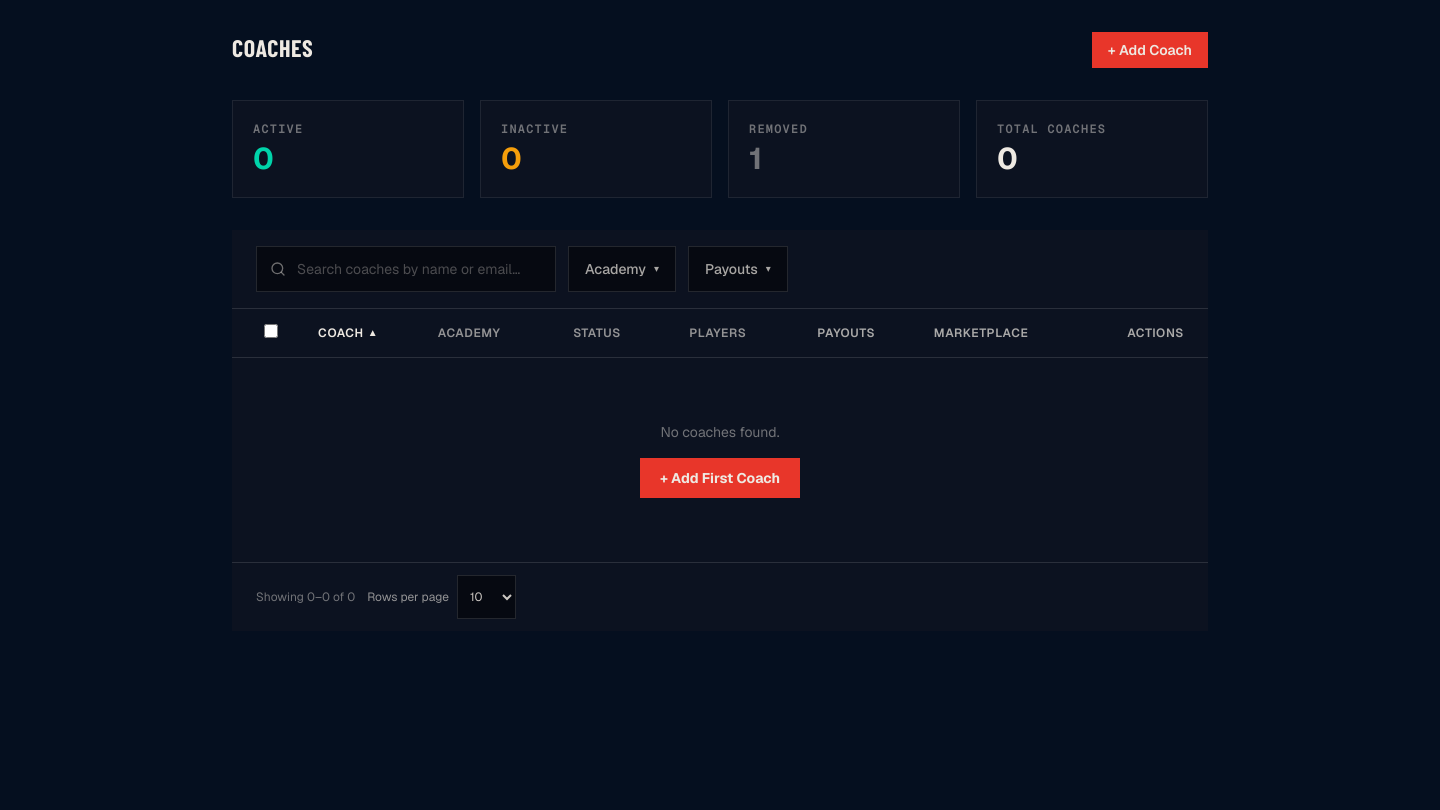
Test: CoachesClient › reinstating a removed coach requires confirmation, then restores their login
The image size is (1440, 810).
Click the button "Removed 1": (844, 149) x1=728 y1=100 x2=960 y2=198
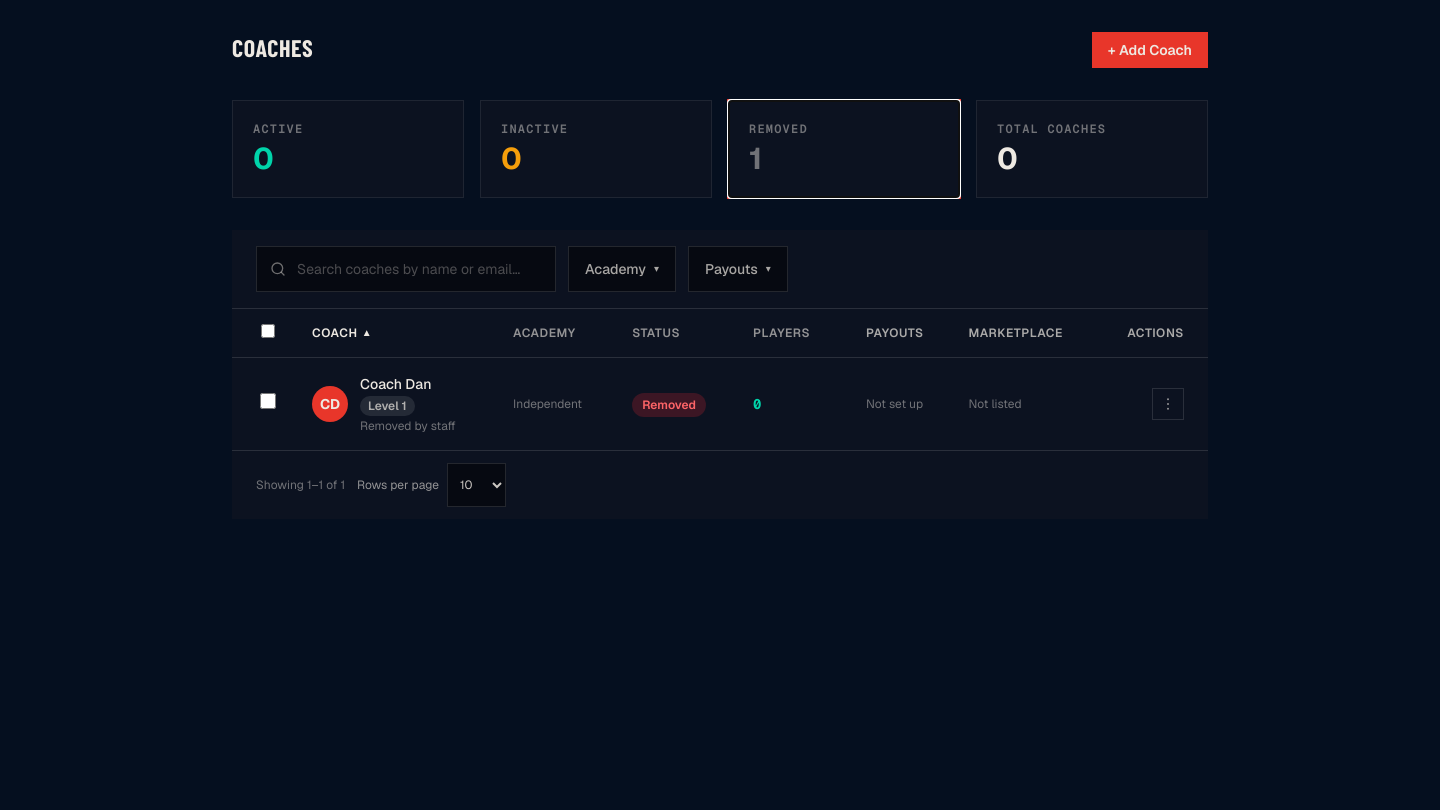
expect the text "Coach Dan" is shown: met, box x1=360 y1=374 x2=431 y2=394
Click the button named "More actions": (1168, 404) x1=1152 y1=388 x2=1184 y2=420
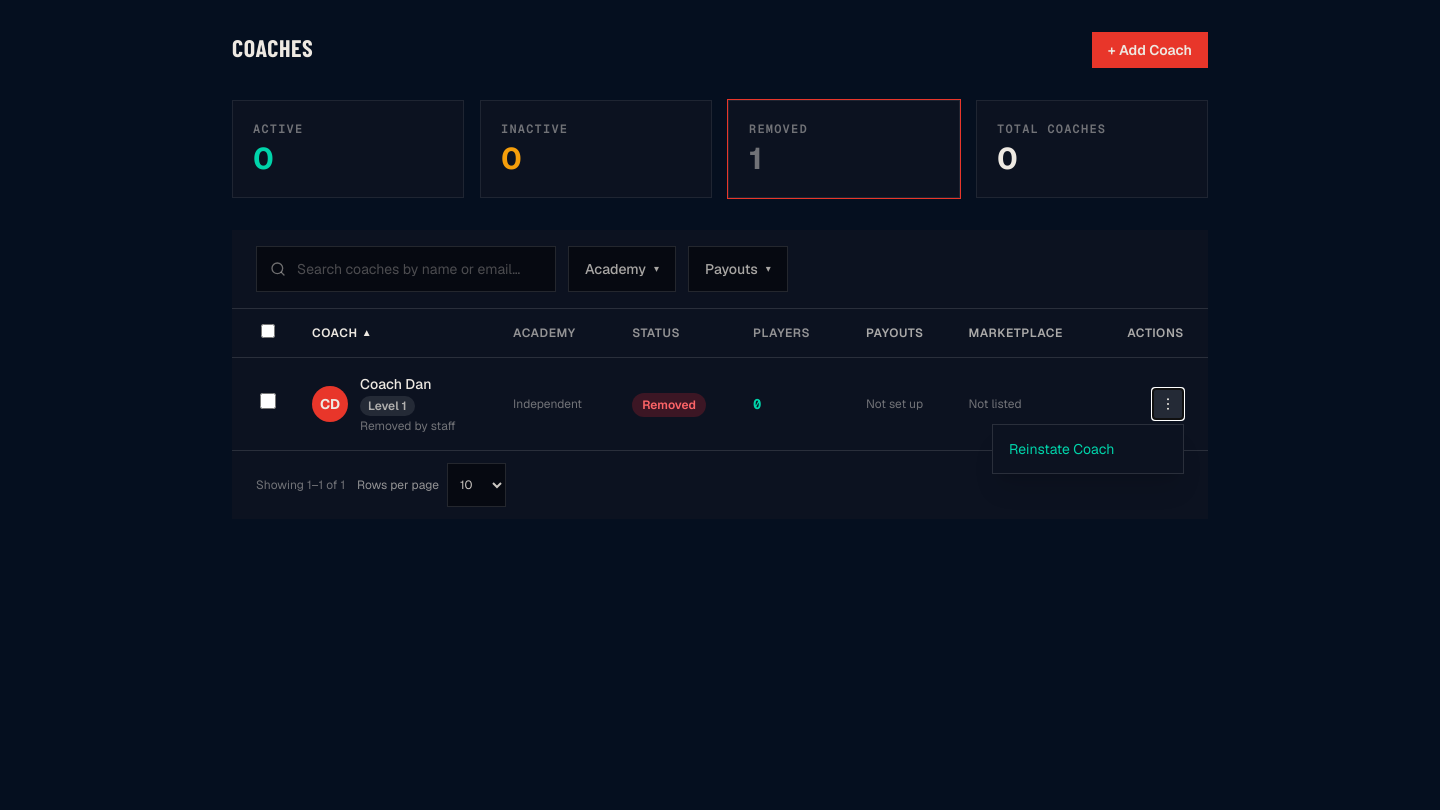
Click the button "Reinstate Coach": (1088, 449) x1=993 y1=429 x2=1183 y2=469
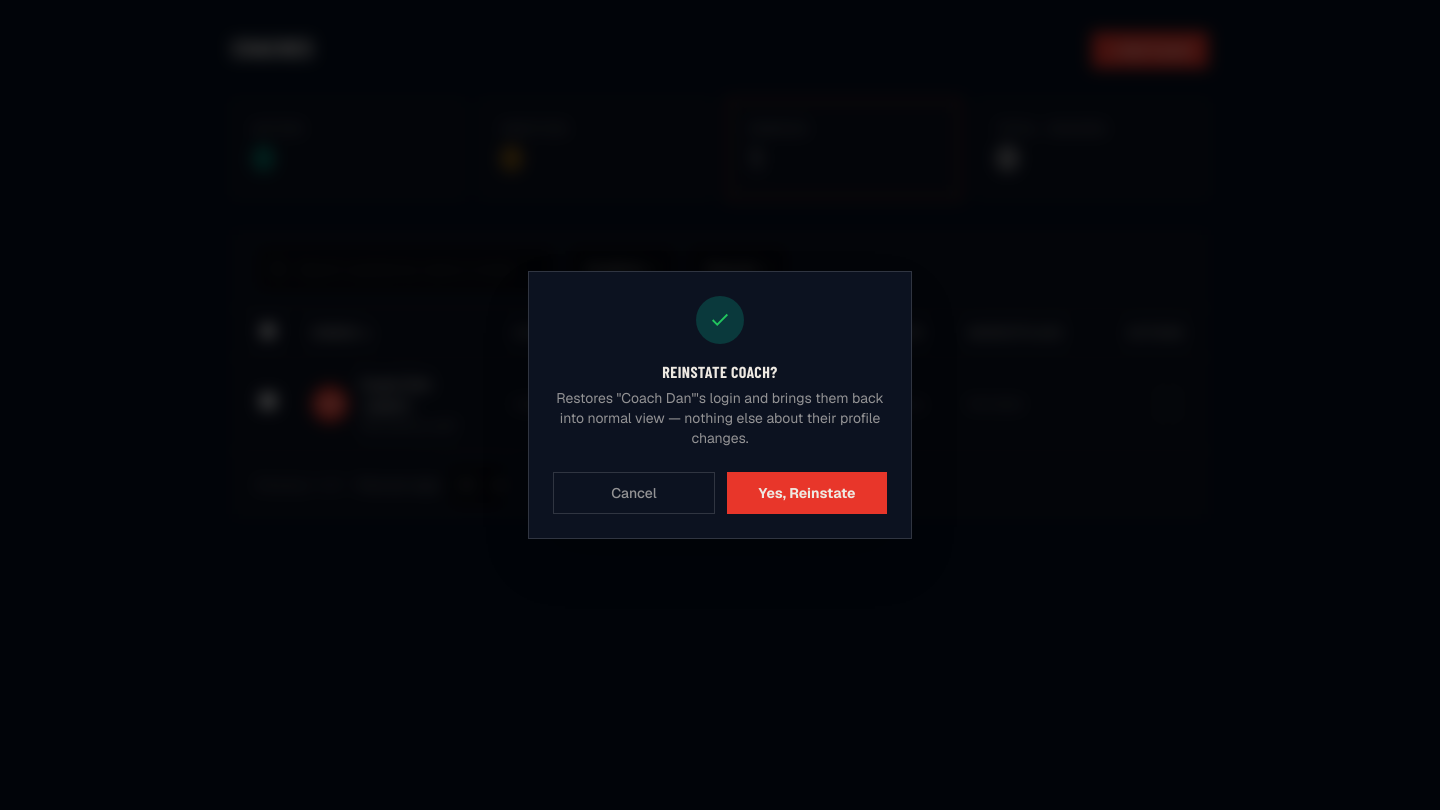
expect the heading "Reinstate Coach?" is shown: met, box x1=662 y1=362 x2=778 y2=381
Click the button "Yes, Reinstate": (807, 493) x1=727 y1=472 x2=887 y2=514
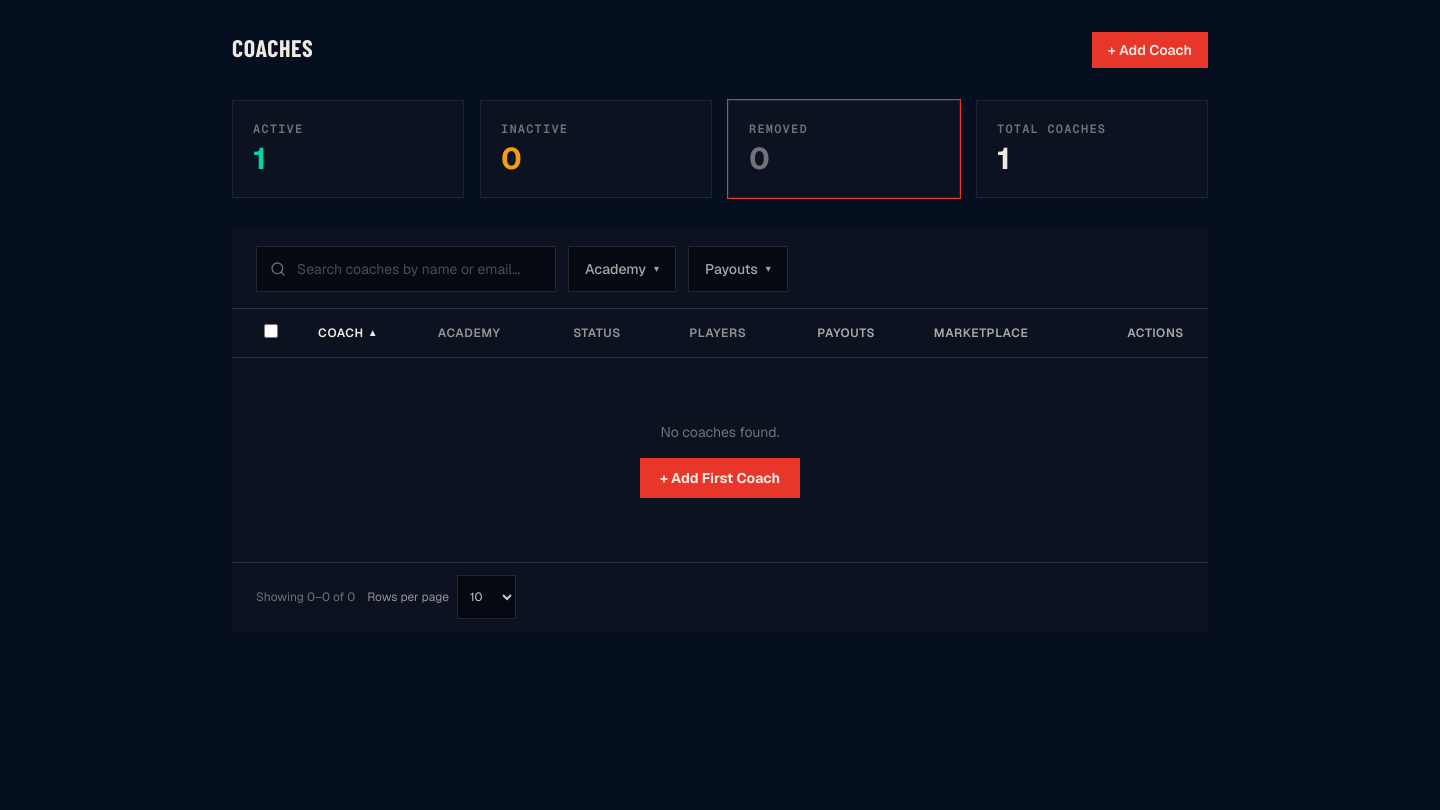
Note: Clicking the already-active Removed card again clears the filter back to "All".
Click the button "Removed 0": (844, 149) x1=728 y1=100 x2=960 y2=198
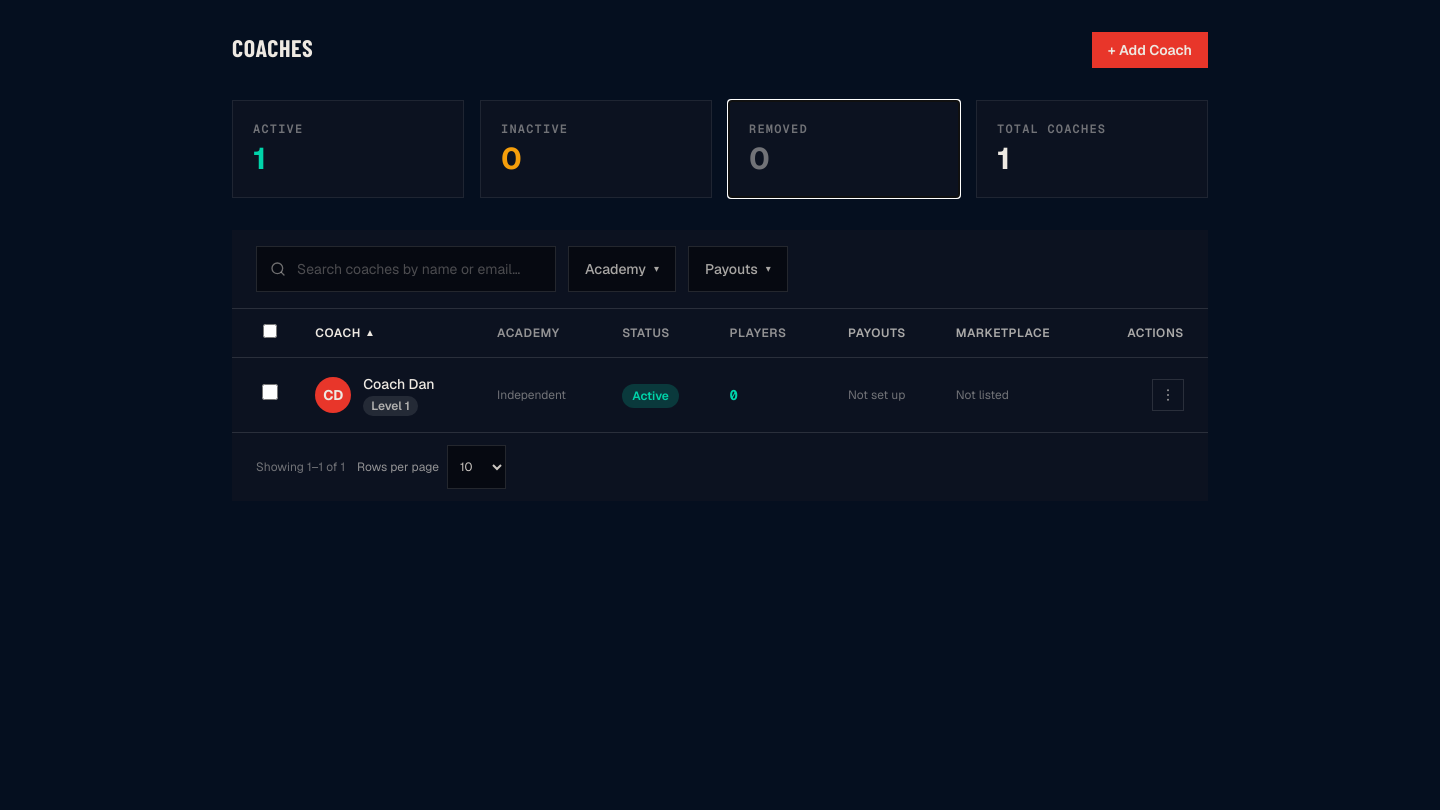
expect the text "Coach Dan" is shown: met, box x1=363 y1=374 x2=435 y2=394
